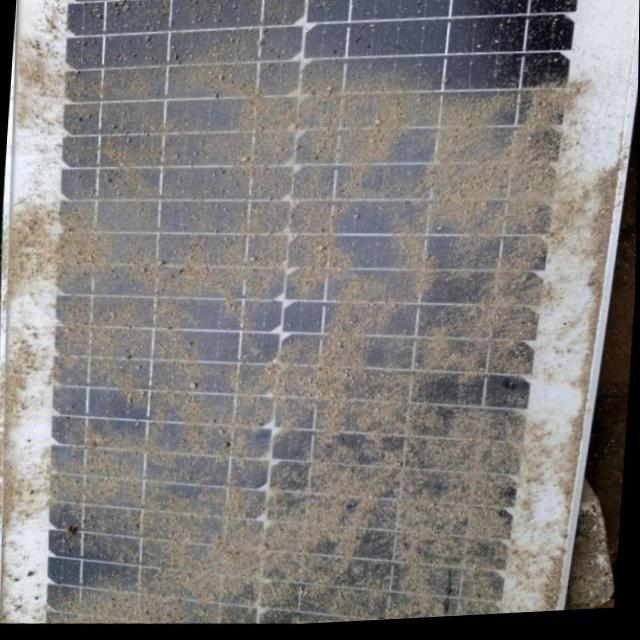Surface Contaminant: (18, 55, 573, 627)
